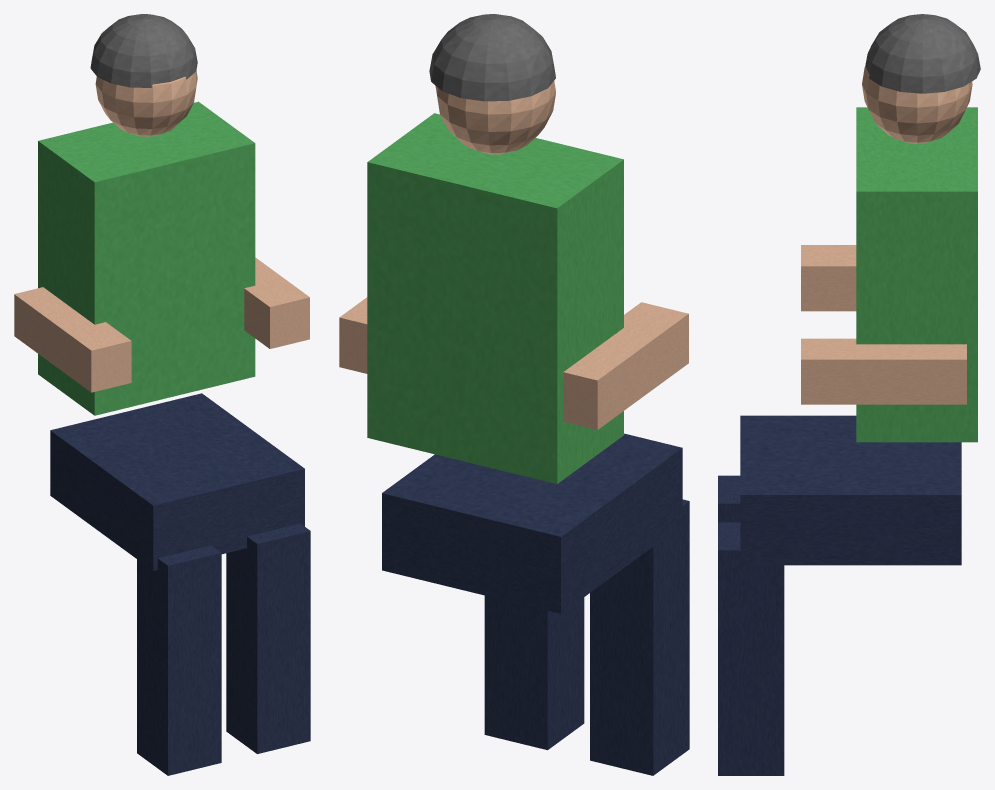
Rendered from Espectador3.obj.
The picture shows the model from 3 angles, left to right: view 1: azimuth 30°, elevation 25°; view 2: azimuth 150°, elevation 25°; view 3: azimuth 270°, elevation 25°; orthographic projection. The views are drawn at different scales.
Bounding box in the file's own units: 0.49 × 1.43 × 0.475.
1 material, 1 textured.
